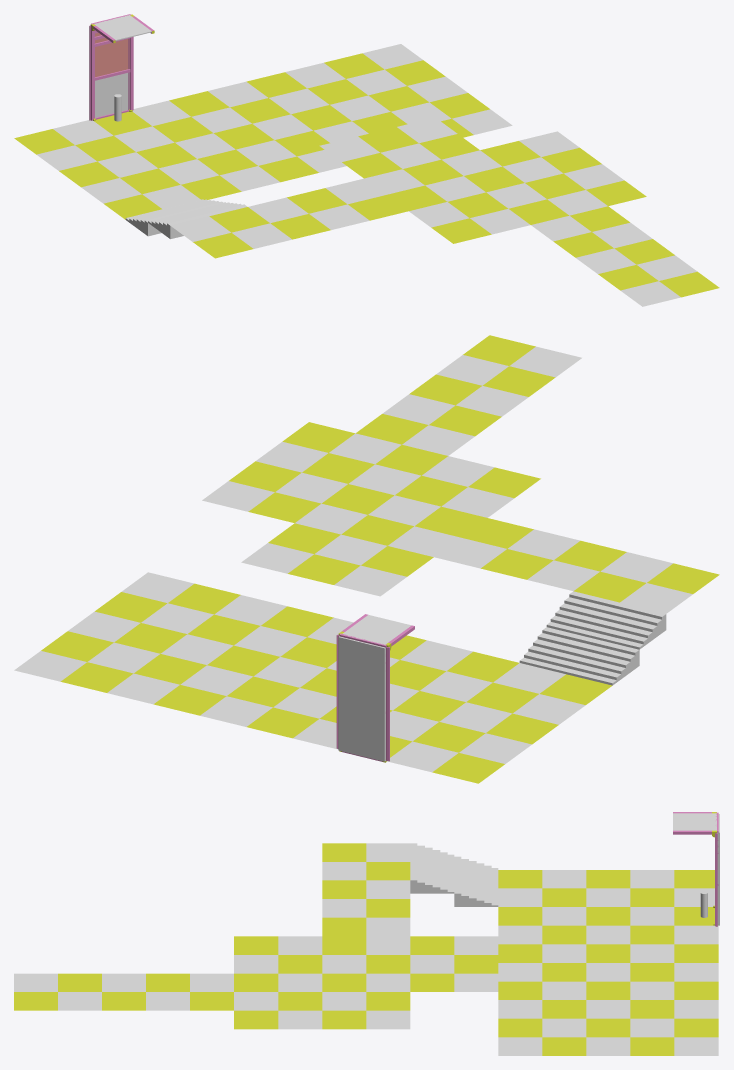
File: floor15x30m.fbx
The picture shows the model from 3 angles, top to bottom: view 1: azimuth 30°, elevation 25°; view 2: azimuth 150°, elevation 25°; view 3: azimuth 270°, elevation 25°; orthographic projection. The views are drawn at different scales.
Parts seen in each view (by area): view 1: Plane.005, Plane.006, Plane.008, Plane.009, Plane, Plane.003, Plane.001, Plane.004, Plane.002, Plane.007, Cube.017, Cube.002 (+1 smaller); view 2: Plane.006, Plane.005, Plane.008, Plane.002, Plane.004, Plane.009, Plane.003, Plane.001, Plane, Cube.017, Plane.007, Cube.002 (+3 smaller); view 3: Plane.001, Plane.002, Plane.004, Plane.005, Plane.006, Plane.008, Plane.009, Plane, Plane.003, Plane.007, Cube.017, Cube.000 (+3 smaller).
Boxes of the visible parts, x1,y1,x2,y2 form: Plane.005: (170,178,408,258); Plane.006: (364,131,601,210); Plane.008: (409,164,646,243); Plane.009: (531,206,719,306); Plane: (94,100,279,199); Plane.003: (14,120,200,219); Plane.001: (169,81,346,182); Plane.004: (324,44,512,137); Plane.002: (246,62,407,142); Plane.007: (319,117,479,178); Cube.017: (89,14,154,121); Cube.002: (148,211,208,239); Plane.006: (202,461,486,556); Plane.005: (434,518,719,613); Plane.008: (256,422,540,517); Plane.002: (107,595,333,715); Plane.004: (14,572,240,692); Plane.009: (356,335,581,455); Plane.003: (386,663,612,783); Plane.001: (200,617,426,738); Plane: (293,640,518,757); Cube.017: (336,614,414,762); Plane.007: (241,523,433,596); Cube.002: (593,602,666,649); Plane.001: (498,944,718,981); Plane.002: (498,981,718,1018); Plane.004: (498,1018,718,1055); Plane.005: (322,843,410,936); Plane.006: (322,936,410,1029); Plane.008: (234,936,322,1029); Plane.009: (14,973,233,1010); Plane: (498,907,718,944); Plane.003: (498,870,714,906); Plane.007: (410,936,498,991); Cube.017: (673,812,719,926); Cube.000: (410,862,454,893).
Bounding box in the file's own units: 30 × 7.2 × 48.1.
